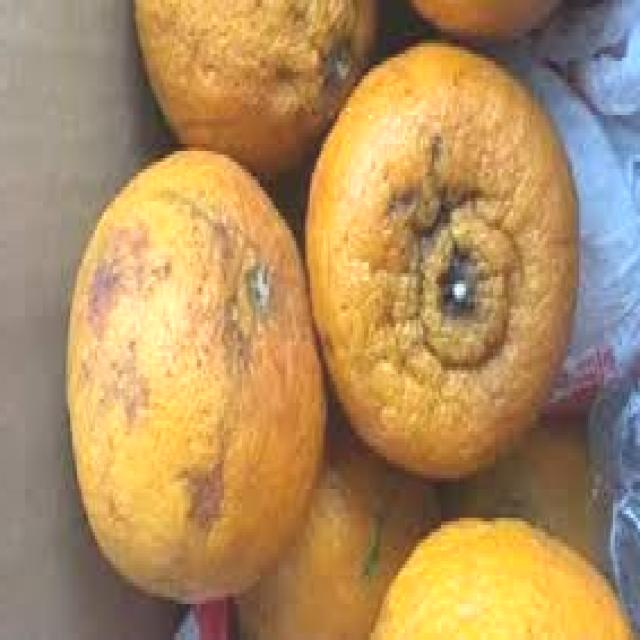cardboard: (0, 0, 175, 639)
organic: (80, 71, 568, 598), (242, 542, 636, 636), (157, 0, 360, 142)
